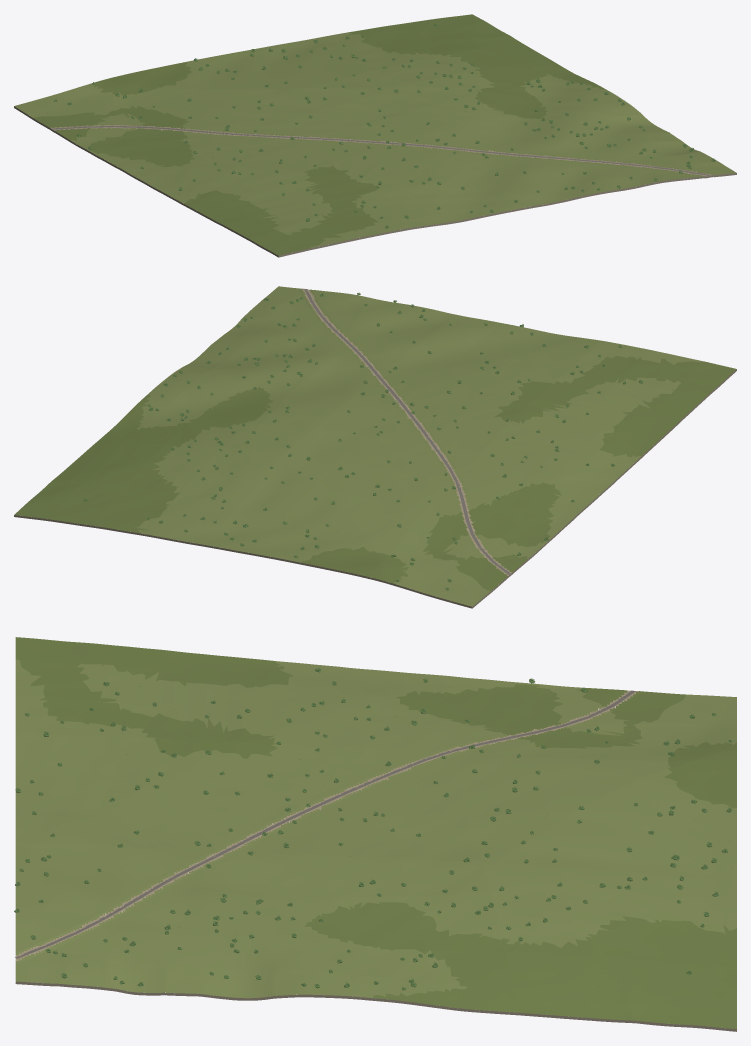
File: parca_+10_-3-yakin.glb
3 renders of one model, top to bottom at view 1: azimuth 30°, elevation 25°; view 2: azimuth 150°, elevation 25°; view 3: azimuth 270°, elevation 25°, orthographic. The views are drawn at different scales.
Visible parts, largest first — view 1: parca_+10_-3_arazi, parca_+10_-3_bitkiler, parca_+10_-3_yollar; view 2: parca_+10_-3_arazi, parca_+10_-3_bitkiler, parca_+10_-3_yollar; view 3: parca_+10_-3_arazi, parca_+10_-3_bitkiler, parca_+10_-3_yollar.
Part boxes in pixels (x1,y1,x2,y2): parca_+10_-3_arazi: (14, 14, 736, 257); parca_+10_-3_bitkiler: (38, 24, 715, 228); parca_+10_-3_yollar: (52, 126, 709, 176); parca_+10_-3_arazi: (14, 286, 736, 608); parca_+10_-3_bitkiler: (83, 292, 672, 590); parca_+10_-3_yollar: (304, 289, 510, 574); parca_+10_-3_arazi: (15, 637, 736, 1031); parca_+10_-3_bitkiler: (14, 652, 733, 993); parca_+10_-3_yollar: (15, 690, 635, 958).
Size of the model in its own units: 1002 by 138 by 1002.
